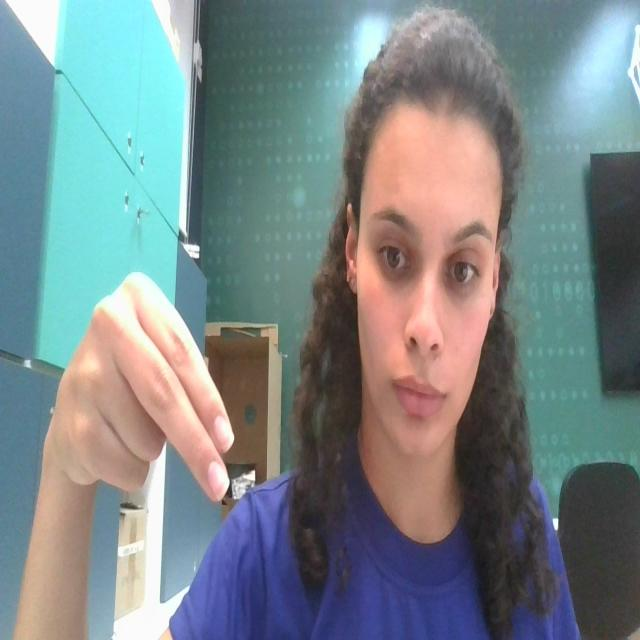N: (50, 257, 245, 531)
